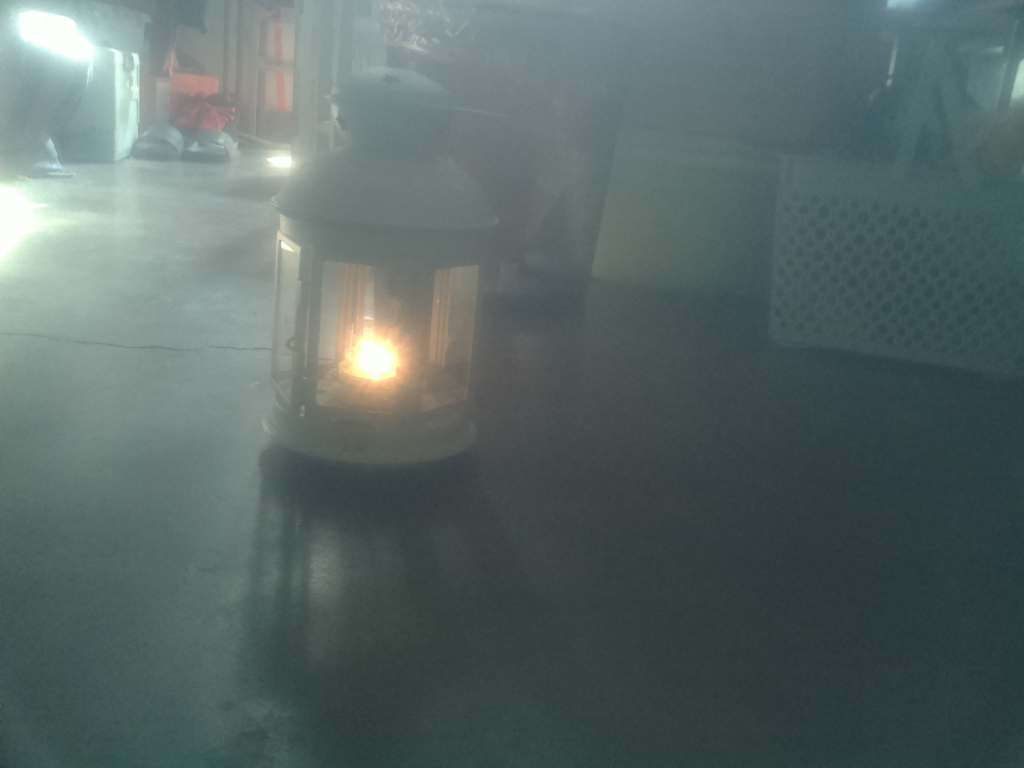fire: (320, 294, 440, 421)
